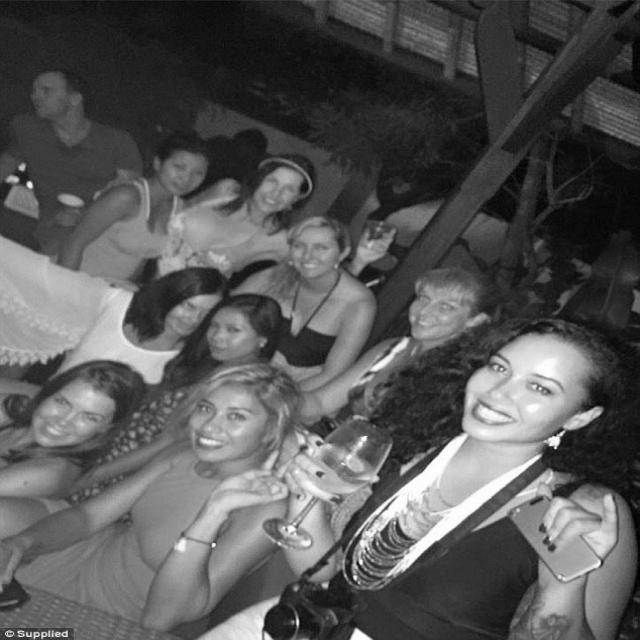person: (287, 314, 640, 640), (0, 356, 326, 636), (0, 359, 149, 592), (230, 213, 378, 422), (3, 65, 145, 270), (339, 267, 484, 461), (70, 127, 218, 286), (168, 152, 317, 285), (108, 264, 218, 376), (200, 284, 275, 372), (344, 220, 400, 291)
